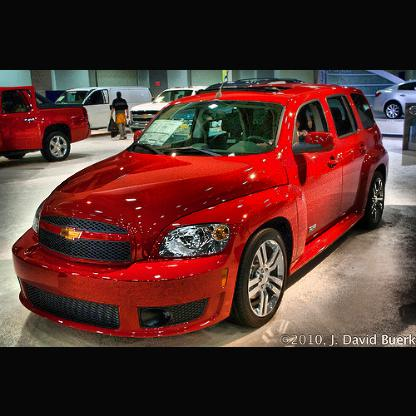Chevrolet HHR SS 2010: (12, 83, 395, 342)
